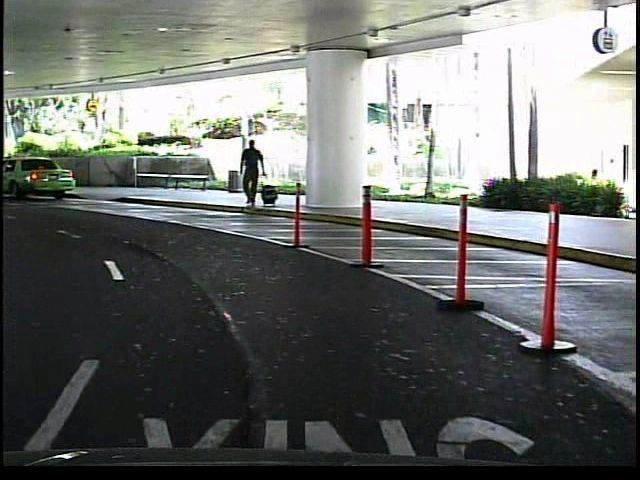person: (236, 135, 268, 211)
